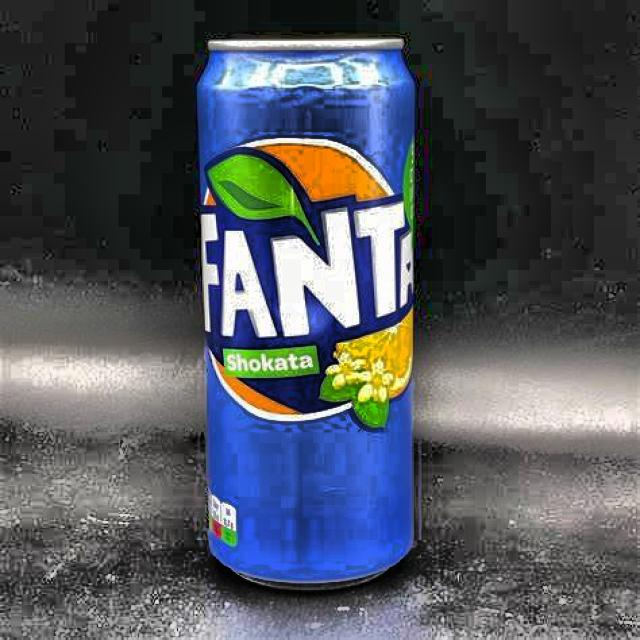Cans: (141, 21, 448, 596)
